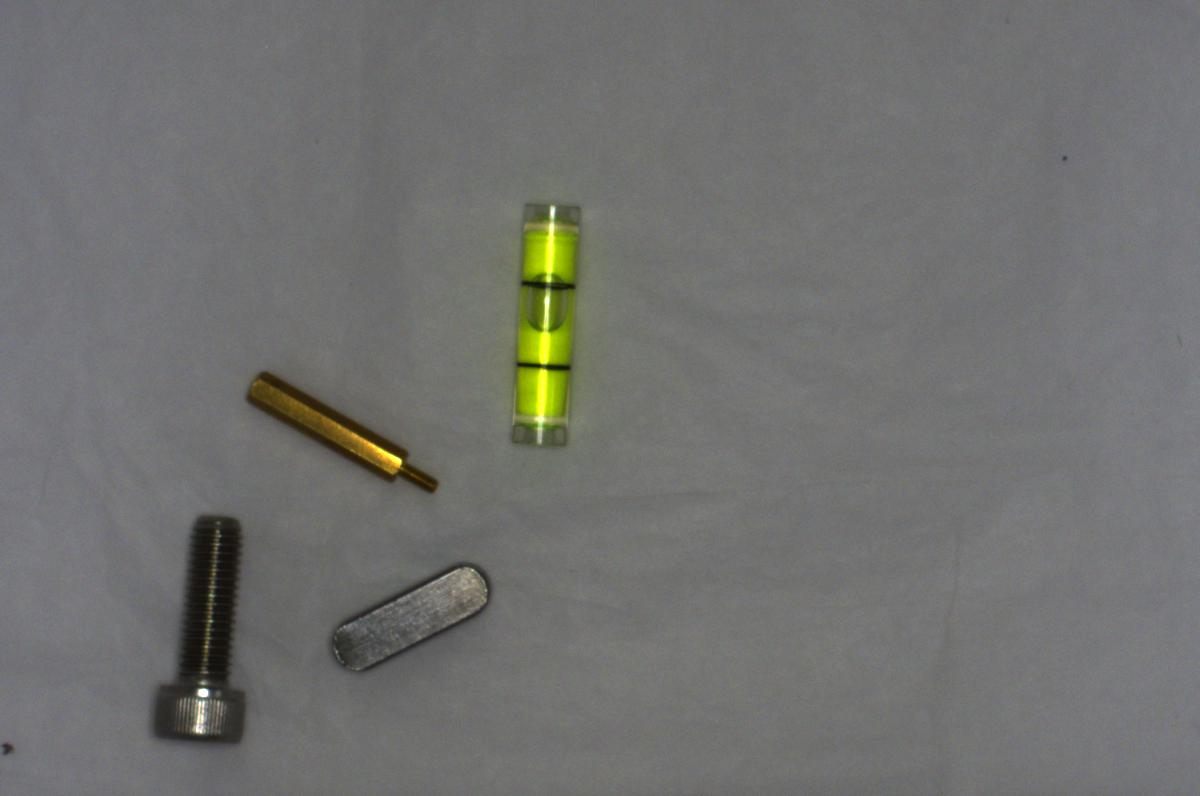Hexagon pillar: (233, 372, 445, 496)
Hexagon screw: (147, 503, 253, 752)
Horizontal bubble: (498, 196, 591, 454)
Keybar: (322, 558, 499, 674)
